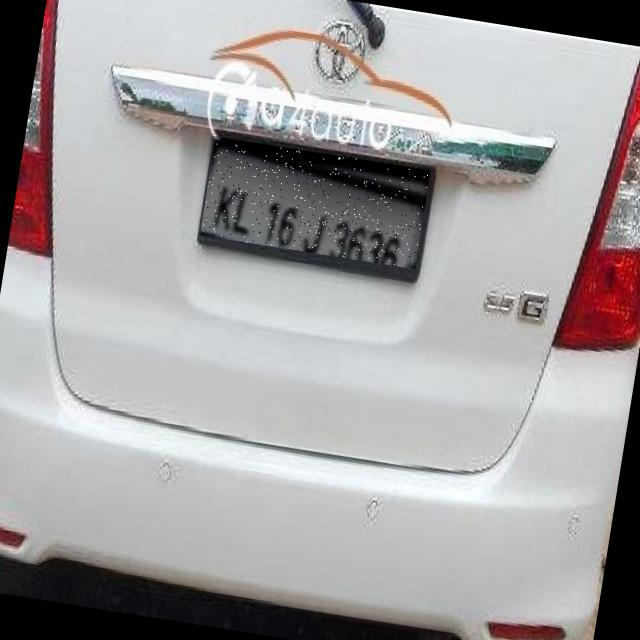Plate: (202, 138, 433, 271)
